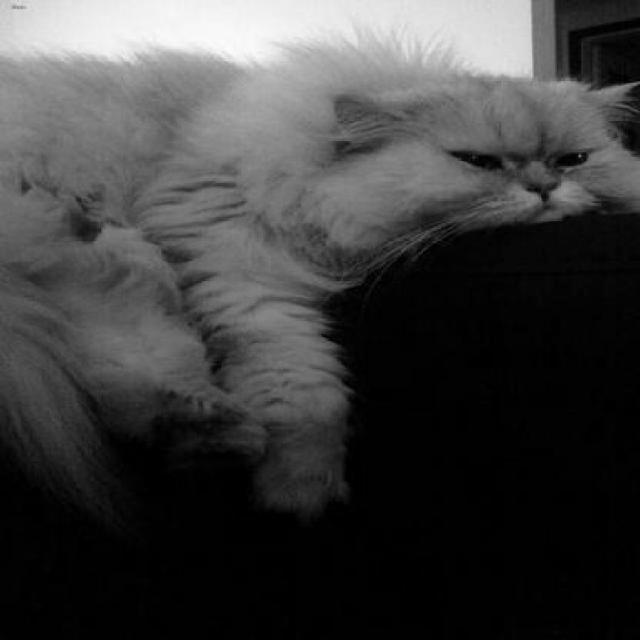Cat: (0, 53, 637, 504)
